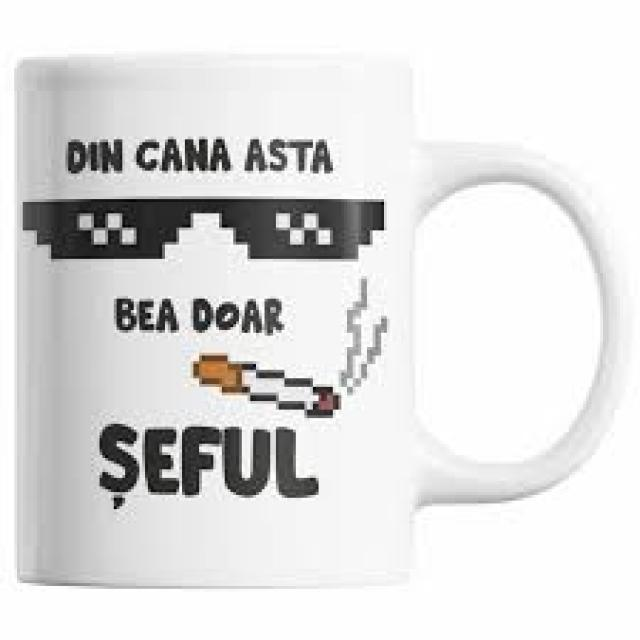taza: (8, 39, 630, 596)
